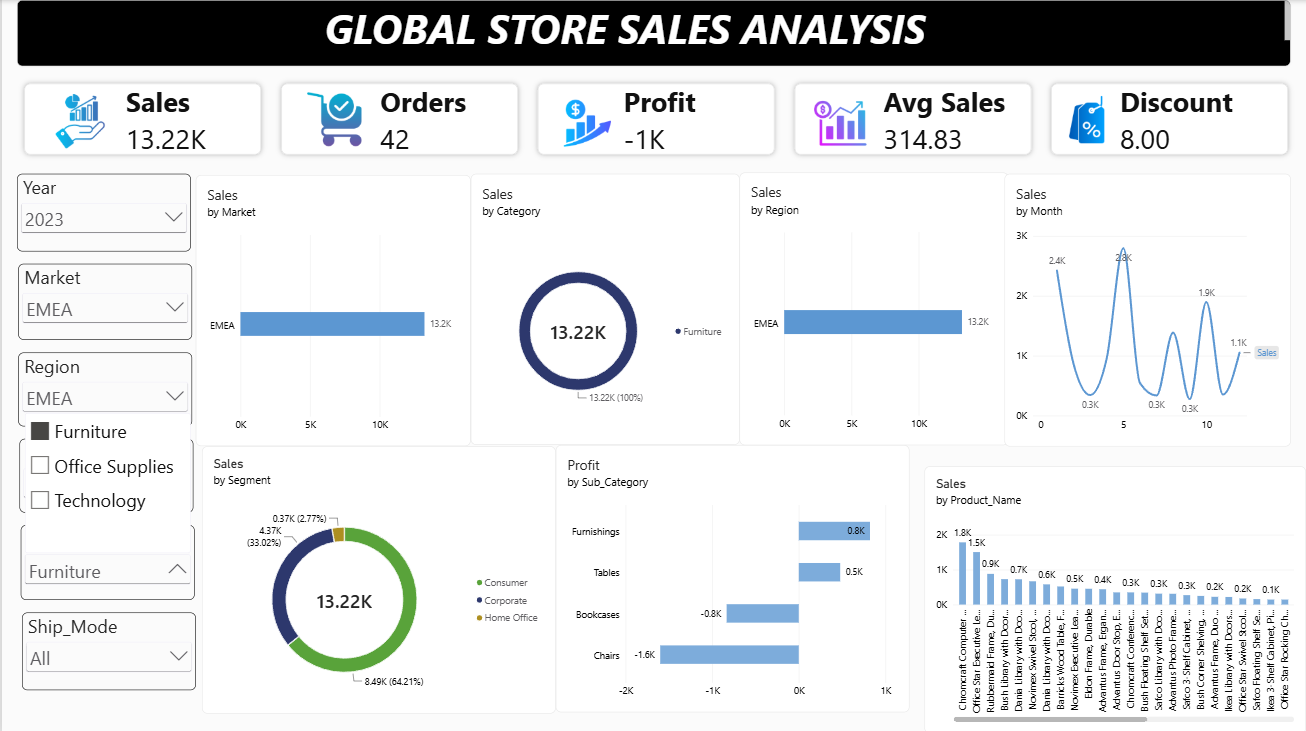

Layout of this report page (visuals, bound fields, positions):
{"tool":"powerbi","page":{"name":"Page 1","canvas":[1920,1080],"ordinal":4},"visuals":[{"type":"textbox","box":[22.1,0,1875.5,97.5],"z":0},{"type":"slicer","fields":{"Values":["calender.month end date.Variation.Date Hierarchy.Year"]},"box":[22.1,255.8,255.8,114.1],"z":5000},{"type":"slicer","fields":{"Values":["gss_cci.Market"]},"box":[23.9,388.3,255.8,112.3],"z":6000},{"type":"slicer","fields":{"Values":["Orders.Ship_Mode"]},"box":[29.4,901.8,255.8,114.1],"z":7000},{"type":"slicer","fields":{"Values":["gss_cci.Category"]},"box":[27.6,773,255.8,110.4],"z":8000},{"type":"slicer","fields":{"Values":["gss_cci.Order_Priority"]},"box":[25.8,646,255.8,108.6],"z":9000},{"type":"slicer","fields":{"Values":["gss_cci.Region"]},"box":[23.9,519,255.8,108.6],"z":10000},{"type":"cardVisual","fields":{"Data":["MEASURE#.TOTAL SALES","MEASURE#.TOTAL ORDERS","MEASURE#.TOTAL PROFIT","MEASURE#.AVERAGE SALES","MEASURE#.TOTAL DISCOUNT"]},"box":[22.1,112.3,1886.5,127],"z":11000},{"type":"clusteredBarChart","fields":{"Category":["gss_cci.Market"],"Y":["MEASURE#.TOTAL SALES"]},"box":[285.7,257.5,404.9,399.4],"z":21001},{"type":"donutChart","fields":{"Category":["gss_cci.Category"],"Y":["MEASURE#.TOTAL SALES"]},"box":[690.2,255.8,395.7,399.4],"z":21003},{"type":"clusteredBarChart","fields":{"Category":["gss_cci.Region"],"Y":["MEASURE#.TOTAL SALES"]},"box":[1085.9,255.8,395.7,401.2],"z":21006},{"type":"lineChart","fields":{"Category":["calender.FY MONTH"],"Y":["MEASURE#.TOTAL SALES"]},"box":[1476.1,255.8,421.5,401.2],"z":21007},{"type":"clusteredBarChart","fields":{"Category":["gss_cci.Sub_Category"],"Y":["Sum(gss_cci.Profit)"]},"box":[815.3,655.2,520.9,393.9],"z":21008},{"type":"donutChart","fields":{"Category":["gss_cci.Segment"],"Y":["MEASURE#.TOTAL SALES"]},"box":[294.3,657.9,520.9,393.9],"z":21009},{"type":"clusteredColumnChart","fields":{"Category":["gss_cci.Product_Name"],"Y":["Sum(gss_cci.Sales)"]},"box":[1336.2,657.1,561.4,393.9],"z":21010}]}

Visuals, with their boxes in screenshot pixels (x1, y1, x2, y2), scaled from the page's 1920x1080 canvas onto the 1306x731 screenshot:
textbox: Rect(15, 0, 1291, 66)
slicer - calender.month end date.Variation.Date Hierarchy.Year: Rect(15, 173, 189, 250)
slicer - gss_cci.Market: Rect(16, 263, 190, 339)
slicer - Orders.Ship_Mode: Rect(20, 610, 194, 688)
slicer - gss_cci.Category: Rect(19, 523, 193, 598)
slicer - gss_cci.Order_Priority: Rect(18, 437, 192, 511)
slicer - gss_cci.Region: Rect(16, 351, 190, 425)
cardVisual - MEASURE#.TOTAL SALES x MEASURE#.TOTAL ORDERS: Rect(15, 76, 1298, 162)
clusteredBarChart - gss_cci.Market x MEASURE#.TOTAL SALES: Rect(194, 174, 470, 445)
donutChart - gss_cci.Category x MEASURE#.TOTAL SALES: Rect(469, 173, 739, 443)
clusteredBarChart - gss_cci.Region x MEASURE#.TOTAL SALES: Rect(739, 173, 1008, 445)
lineChart - calender.FY MONTH x MEASURE#.TOTAL SALES: Rect(1004, 173, 1291, 445)
clusteredBarChart - gss_cci.Sub_Category x Sum(gss_cci.Profit): Rect(555, 443, 909, 710)
donutChart - gss_cci.Segment x MEASURE#.TOTAL SALES: Rect(200, 445, 555, 712)
clusteredColumnChart - gss_cci.Product_Name x Sum(gss_cci.Sales): Rect(909, 445, 1291, 711)
